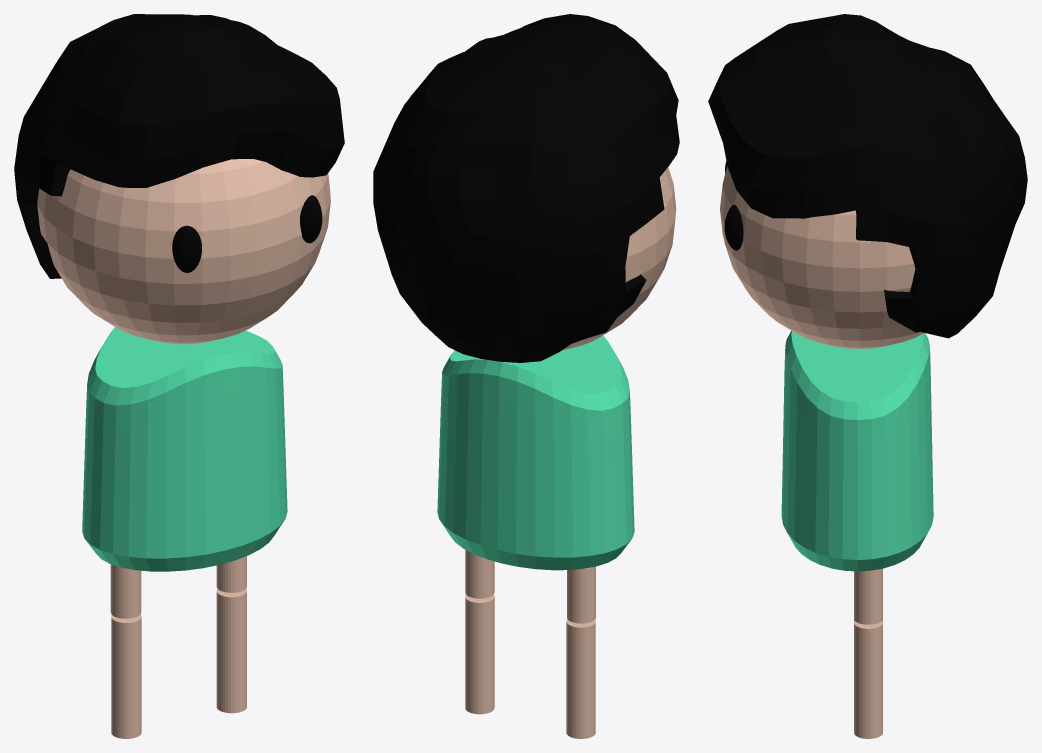
Rendered from Player.fbx.
3 renders of one model, left to right at view 1: azimuth 30°, elevation 25°; view 2: azimuth 150°, elevation 25°; view 3: azimuth 270°, elevation 25°, orthographic. The views are drawn at different scales.
Parts seen in each view (by area): view 1: Hair, Body, Khoma, LeftLegBottom, RightLegBottom, RightLegUp, EyeRight, LeftLegUp, EyeLeft; view 2: Hair, Body, Khoma, LeftLegBottom, RightLegBottom, RightLegUp, LeftLegUp; view 3: Hair, Body, Khoma, LeftLegBottom, LeftLegUp, EyeLeft.
Boxes of the visible parts, bbox=[...] form: Hair: bbox=[14, 14, 344, 278]; Body: bbox=[82, 327, 287, 571]; Khoma: bbox=[37, 159, 330, 344]; LeftLegBottom: bbox=[216, 589, 246, 713]; RightLegBottom: bbox=[111, 614, 141, 738]; RightLegUp: bbox=[110, 564, 141, 618]; EyeRight: bbox=[172, 225, 201, 272]; LeftLegUp: bbox=[216, 556, 246, 592]; EyeLeft: bbox=[300, 195, 322, 243]; Hair: bbox=[373, 14, 679, 362]; Body: bbox=[437, 335, 634, 570]; Khoma: bbox=[562, 167, 676, 350]; LeftLegBottom: bbox=[465, 595, 494, 714]; RightLegBottom: bbox=[566, 619, 595, 738]; RightLegUp: bbox=[567, 566, 595, 623]; LeftLegUp: bbox=[465, 550, 494, 598]; Hair: bbox=[708, 14, 1027, 338]; Body: bbox=[781, 331, 933, 571]; Khoma: bbox=[720, 166, 923, 348]; LeftLegBottom: bbox=[854, 621, 882, 738]; LeftLegUp: bbox=[854, 568, 882, 624]; EyeLeft: bbox=[724, 204, 743, 250].
Bounding box in the file's own units: 9.31 × 23.4 × 10.07.
